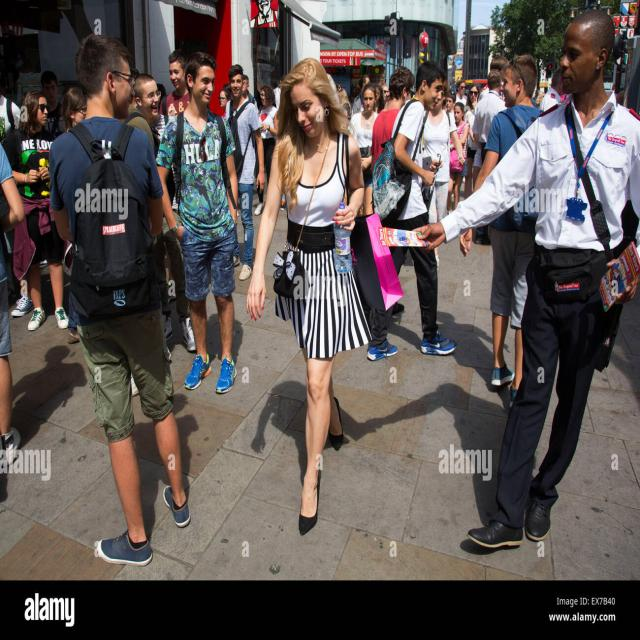Walking: (243, 62, 370, 530), (477, 54, 542, 409), (2, 90, 64, 324), (468, 60, 504, 244), (348, 75, 368, 114)
human: (454, 86, 640, 528), (273, 59, 341, 211), (422, 86, 454, 259), (124, 71, 168, 164), (61, 87, 86, 132), (218, 84, 233, 124), (375, 84, 386, 114)
loitering: (48, 32, 188, 562), (158, 48, 247, 408), (122, 72, 191, 356), (392, 58, 452, 360), (46, 90, 88, 342), (0, 127, 26, 453), (230, 65, 266, 282), (369, 76, 405, 242), (353, 81, 381, 216), (258, 84, 280, 214), (446, 101, 468, 216), (163, 51, 192, 119), (40, 70, 68, 140), (481, 55, 508, 103), (0, 82, 23, 135), (540, 67, 565, 111), (241, 75, 256, 107)
